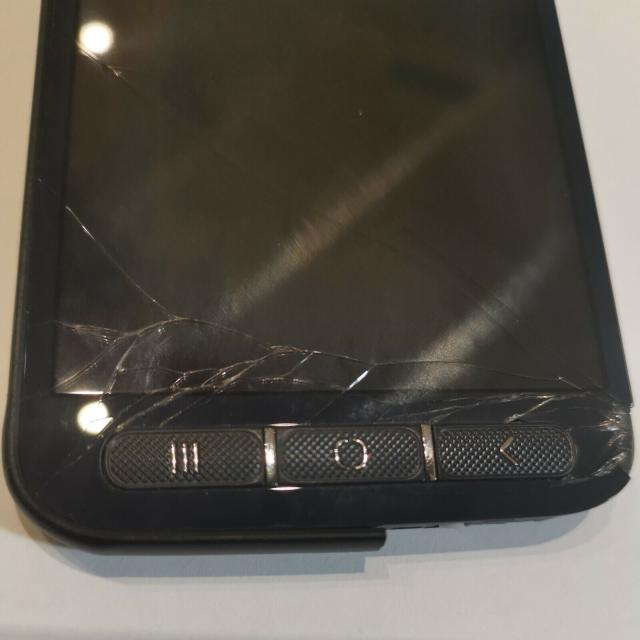Crack: (19, 267, 640, 529)
